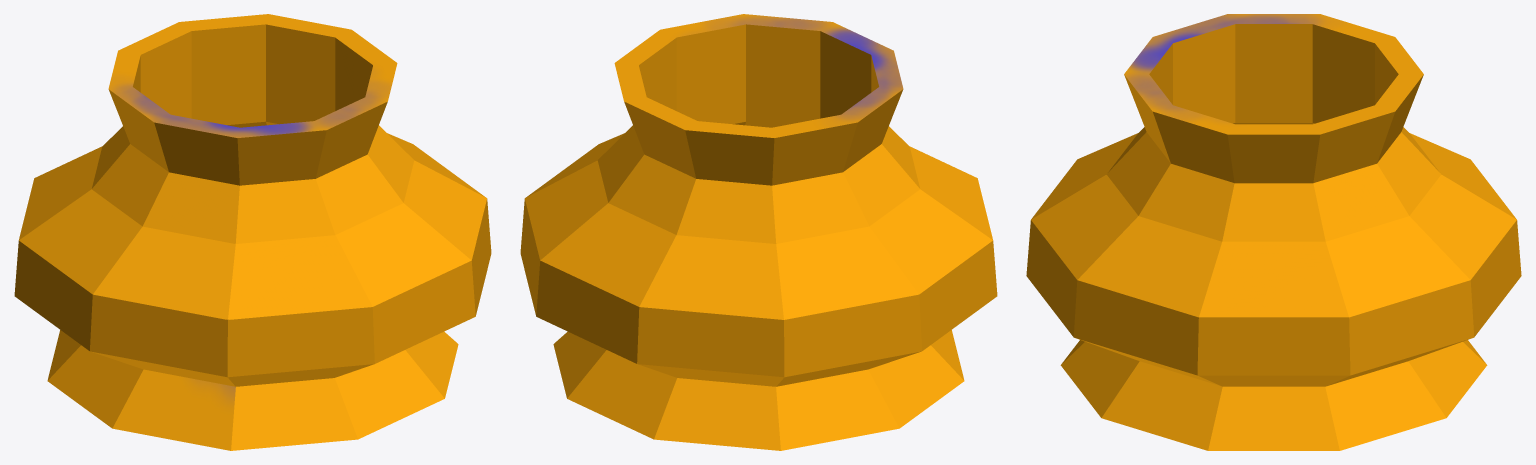
Rendered from ink-bottle.obj.
3 renders of one model, left to right at view 1: azimuth 30°, elevation 25°; view 2: azimuth 150°, elevation 25°; view 3: azimuth 270°, elevation 25°, orthographic.
Visible parts, largest first — view 1: Cylinder; view 2: Cylinder; view 3: Cylinder.
Boxes of the visible parts, left/top/right/bottom form: Cylinder: left=14, top=14, right=491, bottom=450; Cylinder: left=520, top=14, right=997, bottom=450; Cylinder: left=1026, top=14, right=1521, bottom=450.
Size of the model in its own units: 1.9 by 1.3 by 2.
Materials: 1 (1 with a texture image).
